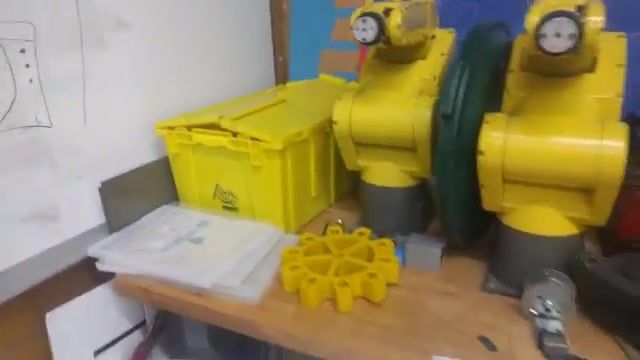gear: (278, 221, 393, 307)
